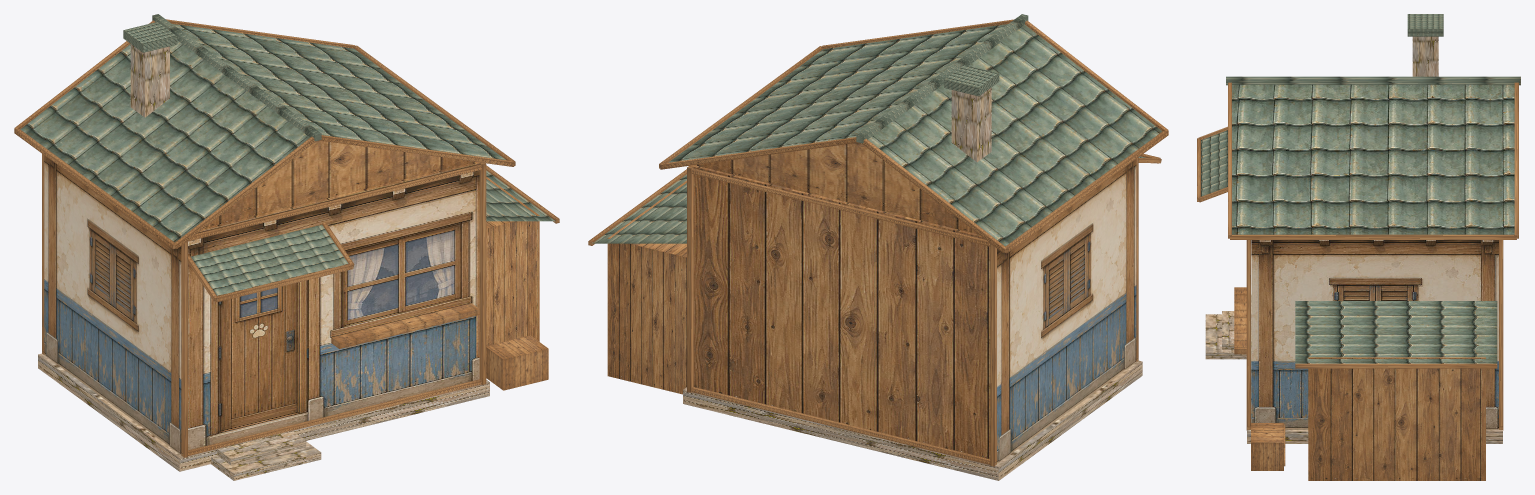
The model's file is nyanisyarud-harbor-home-sage.glb.
The picture shows the model from 3 angles, left to right: view 1: azimuth 30°, elevation 25°; view 2: azimuth 150°, elevation 25°; view 3: azimuth 270°, elevation 25°; orthographic projection. The views are drawn at different scales.
Visible parts, largest first — view 1: Sage_Garden_Cottage; view 2: Sage_Garden_Cottage; view 3: Sage_Garden_Cottage.
Part boxes in pixels (x1,y1,x2,y2): Sage_Garden_Cottage: (14,14,559,480); Sage_Garden_Cottage: (588,14,1168,480); Sage_Garden_Cottage: (1197,14,1520,480).
Bounding box in the file's own units: 2.71 × 2.14 × 1.99.
1 material, 1 textured.
